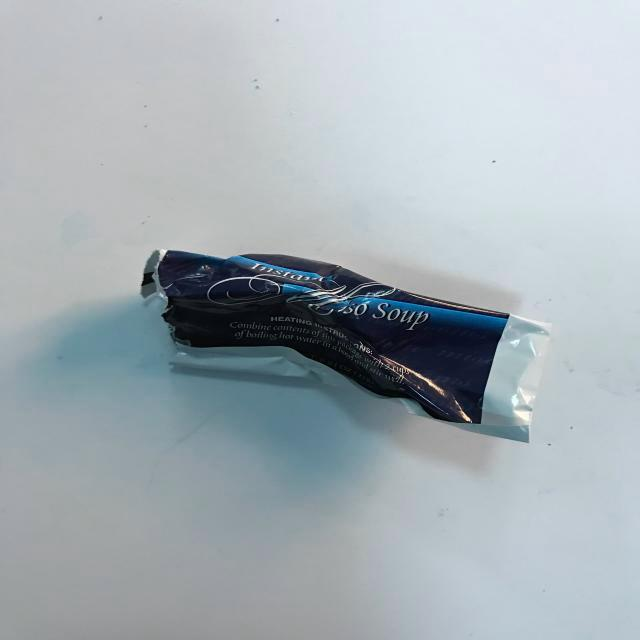plastic: (127, 230, 587, 462)
